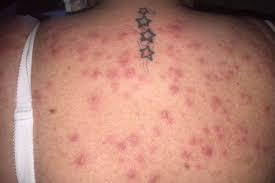Reupload: (0, 15, 35, 183)
